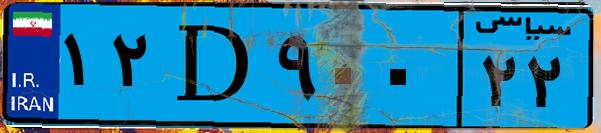0: (385, 28, 445, 110), (330, 28, 385, 110)
1: (57, 26, 110, 100)
2: (475, 38, 525, 113), (525, 38, 570, 115), (110, 28, 158, 98)
9: (270, 28, 330, 110)
D: (158, 12, 270, 120)
